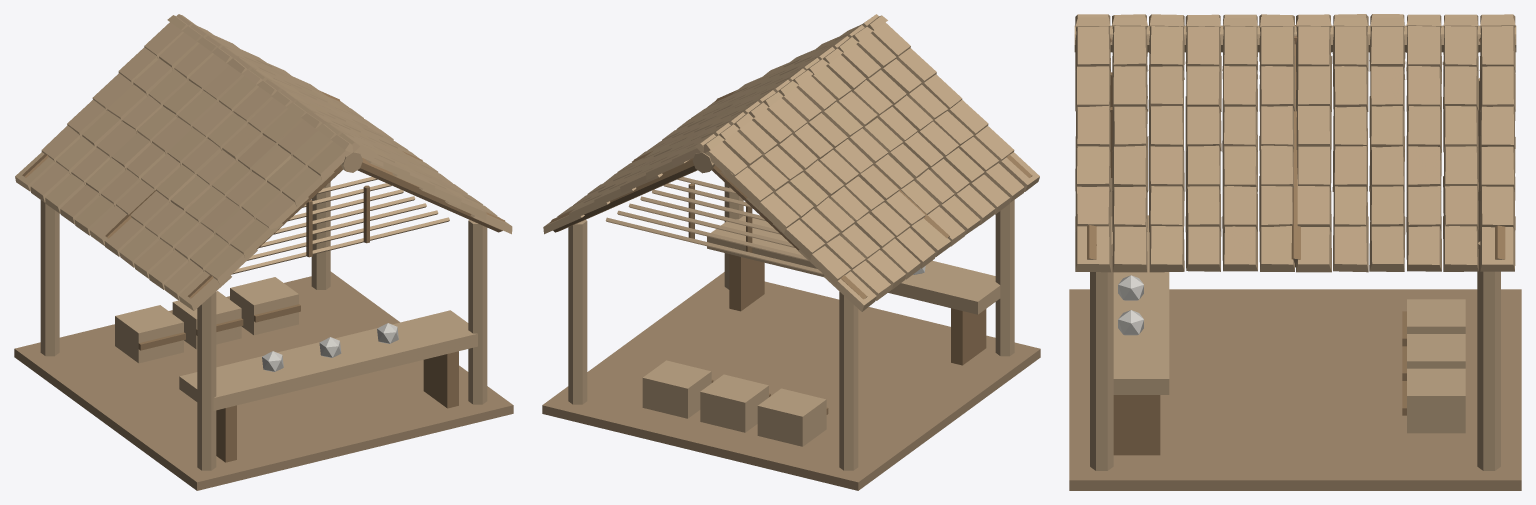
File: building_trading_post_complete.glb
3 views of the same model, side by side, from view 1: azimuth 30°, elevation 25°; view 2: azimuth 150°, elevation 25°; view 3: azimuth 270°, elevation 25° (orthographic). The views are drawn at different scales.
Parts seen in each view (by area): view 1: building_trading_post_complete; view 2: building_trading_post_complete; view 3: building_trading_post_complete.
Boxes of the visible parts, x1,y1,x2,y2 form: building_trading_post_complete: (14, 14, 513, 490); building_trading_post_complete: (542, 14, 1040, 490); building_trading_post_complete: (1069, 14, 1521, 490).
Bounding box in the file's own units: 3.91 × 3.57 × 3.85.
